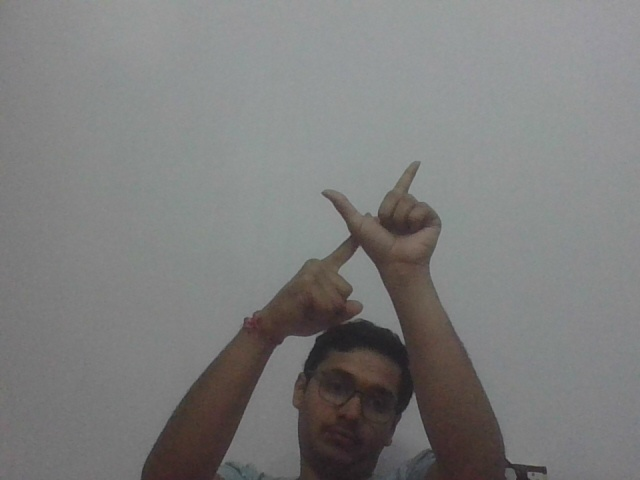Y: (296, 160, 451, 326)
